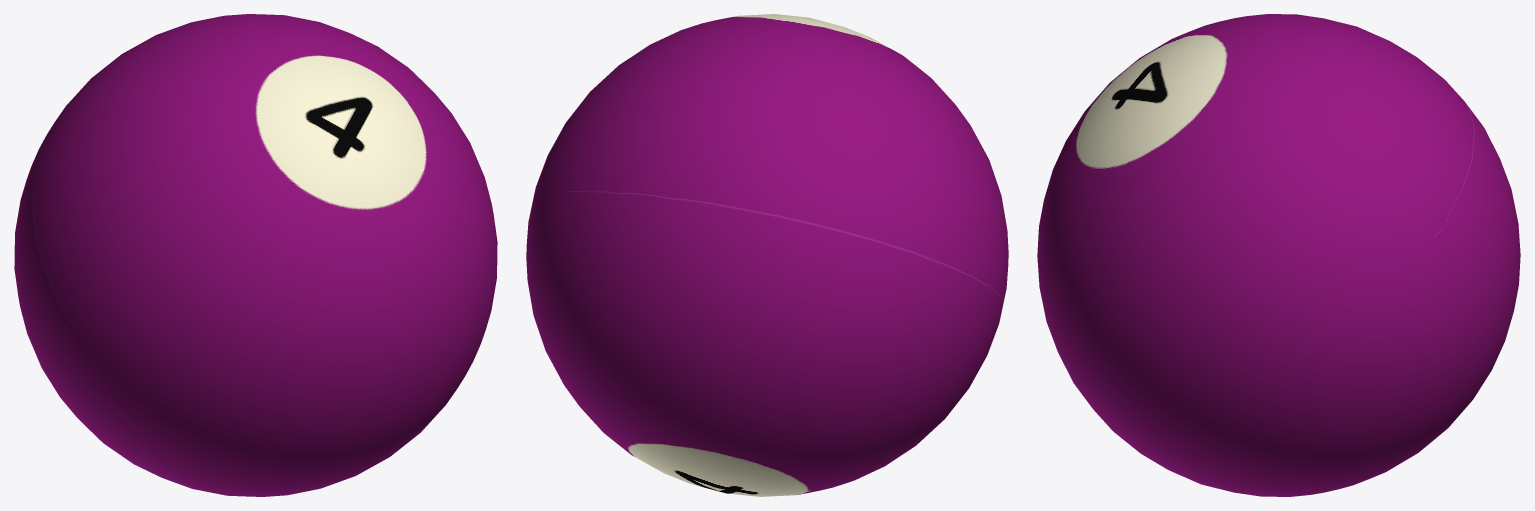
File: bola7.obj
The picture shows the model from 3 angles, left to right: view 1: azimuth 30°, elevation 25°; view 2: azimuth 150°, elevation 25°; view 3: azimuth 270°, elevation 25°; orthographic projection.
Parts seen in each view (by area): view 1: 4_Ball; view 2: 4_Ball; view 3: 4_Ball.
Part boxes in pixels (bbox=[...]): 4_Ball: bbox=[14, 14, 497, 496]; 4_Ball: bbox=[526, 14, 1008, 496]; 4_Ball: bbox=[1037, 14, 1520, 496].
Size of the model in its own units: 0.0509 by 0.0509 by 0.0509.
1 material, 1 textured.
